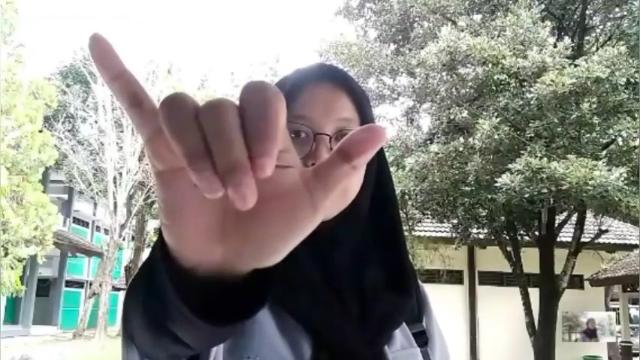Y: (84, 24, 400, 282)
